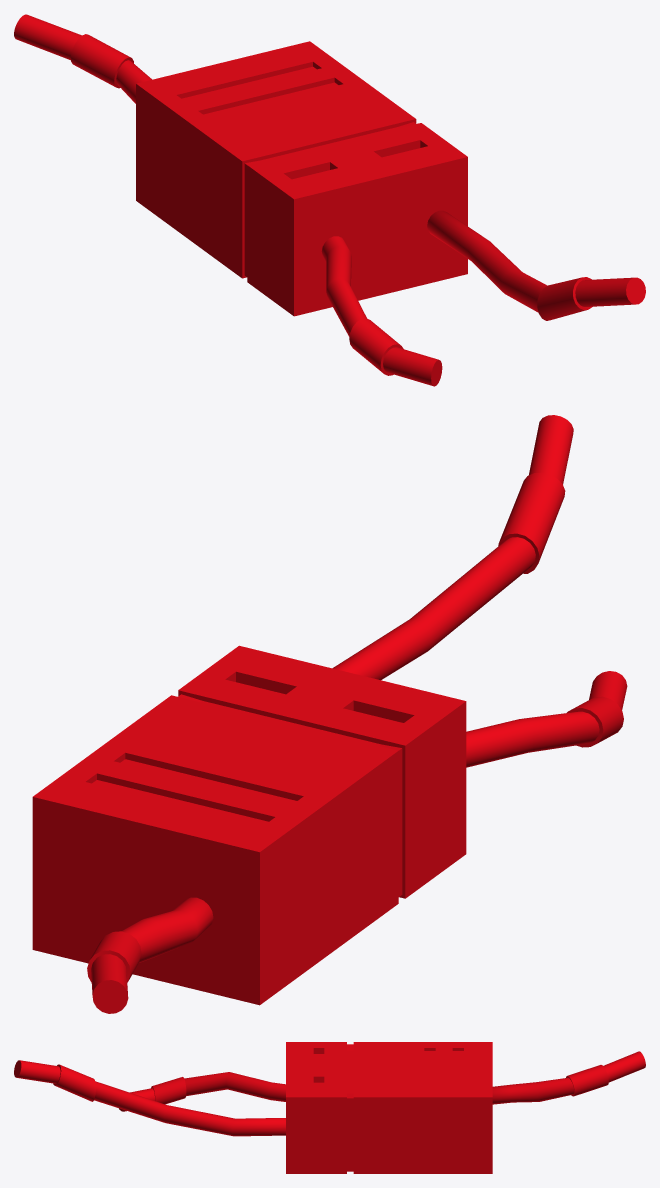
Rendered from komono13.fbx.
3 renders of one model, top to bottom at view 1: azimuth 30°, elevation 25°; view 2: azimuth 150°, elevation 25°; view 3: azimuth 270°, elevation 25°, orthographic. The views are drawn at different scales.
Parts seen in each view (by area): view 1: Cube.014, Cylinder.015, Cylinder.016, Cylinder.017; view 2: Cube.014, Cylinder.015, Cylinder.016, Cylinder.017; view 3: Cube.014, Cylinder.015, Cylinder.017, Cylinder.016.
Part boxes in pixels (x1,y1,x2,y2): Cube.014: (136,41,467,316); Cylinder.015: (427,210,645,320); Cylinder.016: (321,236,442,386); Cylinder.017: (14,14,151,103); Cube.014: (32,645,466,1005); Cylinder.015: (332,415,573,680); Cylinder.016: (466,671,627,767); Cylinder.017: (87,897,213,1013); Cube.014: (286,1042,492,1173); Cylinder.015: (14,1060,285,1136); Cylinder.017: (492,1051,645,1104); Cylinder.016: (119,1072,285,1111).
Bounding box in the file's own units: 87.64 × 64.97 × 369.
